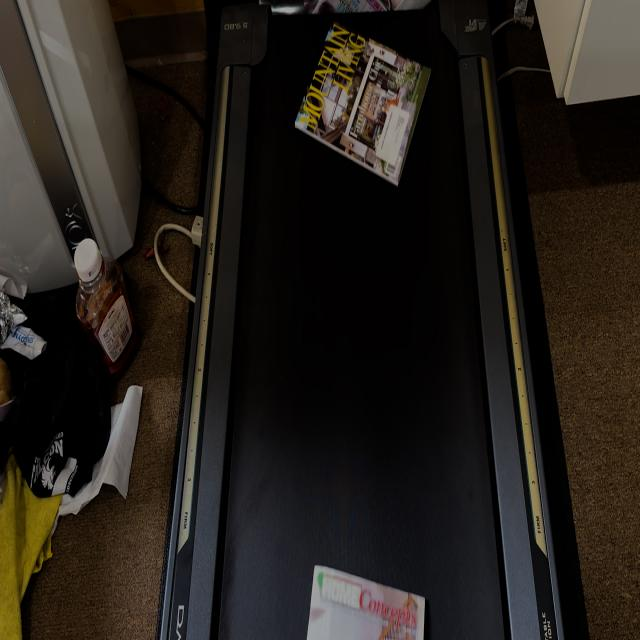Recycle: (292, 22, 434, 191), (302, 561, 431, 640)
